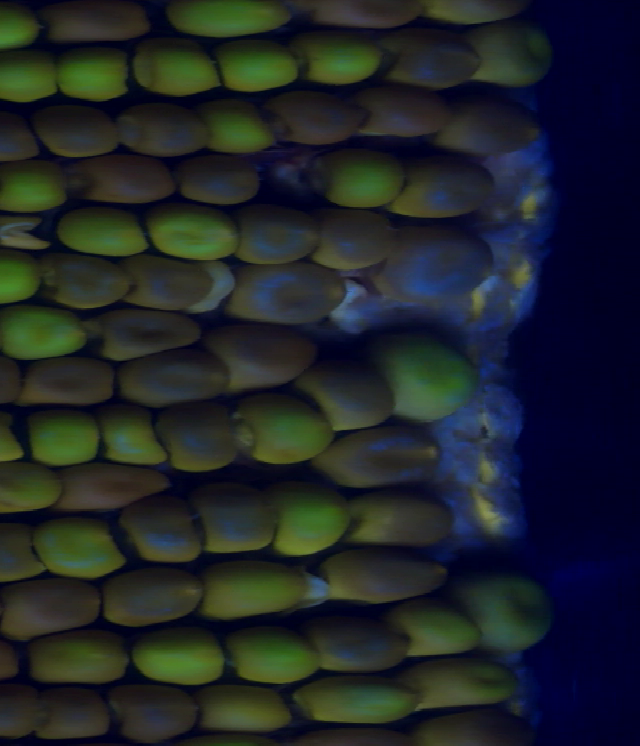fluorescent: (378, 334, 471, 424), (212, 31, 313, 101), (294, 18, 381, 97), (109, 634, 238, 684), (467, 581, 554, 653), (165, 1, 296, 45), (293, 684, 425, 727), (238, 401, 330, 462), (30, 520, 122, 579), (232, 626, 323, 685), (188, 688, 299, 736), (26, 637, 130, 688), (141, 208, 232, 265), (202, 565, 315, 610), (473, 27, 551, 88), (12, 414, 99, 468), (270, 494, 348, 553), (48, 210, 154, 253), (0, 307, 87, 358), (410, 669, 515, 710), (94, 411, 171, 465), (123, 47, 206, 97), (316, 156, 400, 202), (400, 608, 473, 659), (204, 107, 278, 153), (52, 52, 130, 94), (0, 166, 55, 217), (0, 60, 59, 107), (0, 471, 59, 517), (0, 408, 33, 462), (0, 13, 48, 50), (416, 1, 496, 23), (0, 259, 38, 302)
nonfluorescent: (303, 356, 407, 433), (357, 488, 461, 558), (325, 546, 452, 602), (404, 156, 509, 220), (142, 404, 238, 472), (441, 98, 552, 156), (399, 234, 494, 301), (239, 262, 346, 321), (306, 617, 410, 676), (103, 569, 206, 626), (326, 436, 441, 487), (119, 507, 215, 568), (217, 321, 310, 382), (123, 256, 216, 316), (55, 466, 170, 514), (0, 584, 109, 633), (425, 700, 537, 746), (125, 358, 228, 408), (46, 1, 152, 49), (193, 498, 283, 553), (49, 253, 130, 313), (38, 685, 122, 742), (232, 205, 307, 268), (109, 684, 197, 736), (22, 360, 116, 408), (268, 97, 365, 143), (313, 210, 396, 263), (35, 104, 117, 156), (365, 92, 448, 143), (125, 105, 203, 159), (399, 37, 480, 89), (175, 162, 271, 205), (77, 159, 173, 200), (106, 310, 194, 350), (316, 1, 430, 30), (0, 521, 46, 576), (0, 687, 33, 737), (0, 117, 33, 160)
